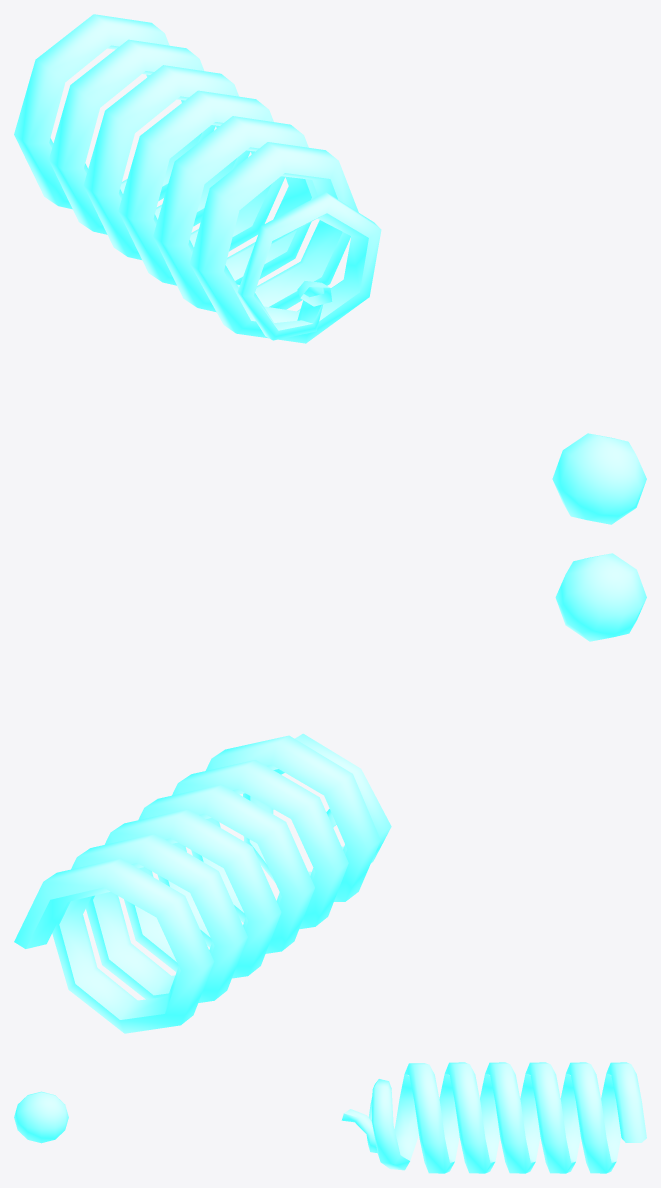
Rendered from obj_mountablelaserpistol_glow.fbx.
3 views of the same model, one above another, from view 1: azimuth 30°, elevation 25°; view 2: azimuth 150°, elevation 25°; view 3: azimuth 270°, elevation 25° (orthographic). The views are drawn at different scales.
Visible parts, largest first — view 1: polySurface126.001; view 2: polySurface126.001; view 3: polySurface126.001.
Part boxes in pixels (left/top/right/bottom): polySurface126.001: left=14, top=14, right=646, bottom=524; polySurface126.001: left=14, top=553, right=646, bottom=1033; polySurface126.001: left=14, top=1062, right=646, bottom=1173.
Size of the model in its own units: 0.3853 by 0.3852 by 2.06.
